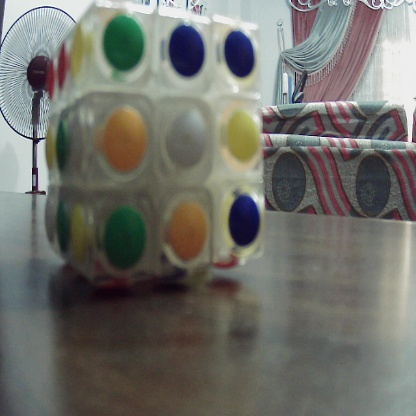Rubix Cube: (46, 1, 267, 280)
